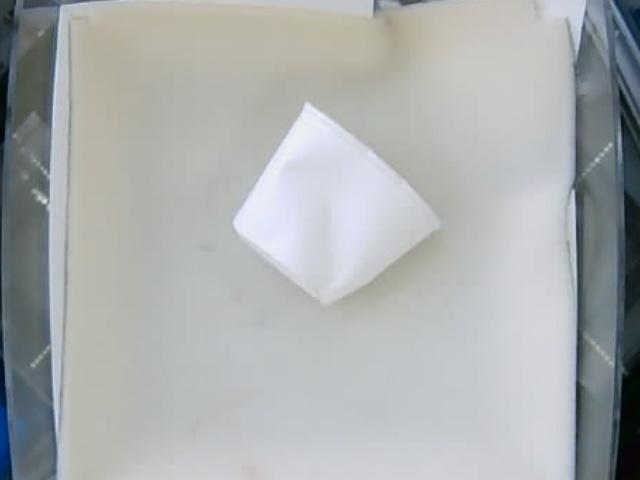Cup: (237, 104, 442, 307)
